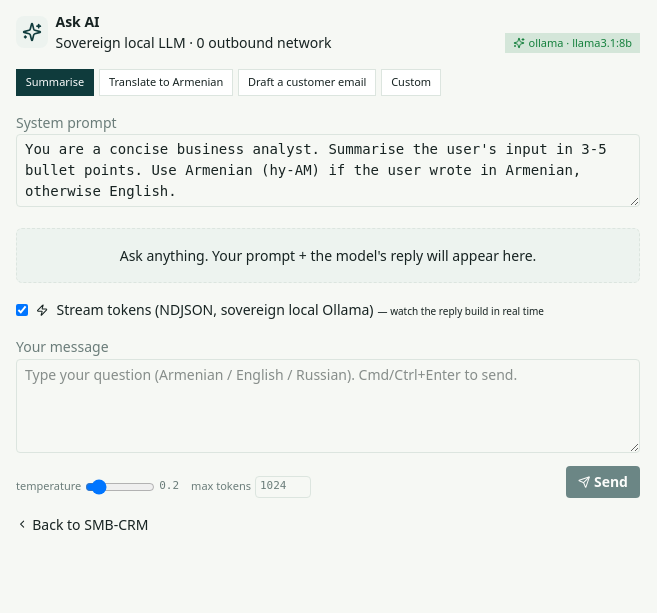
Test: Ask AI — streaming (slice 14) › accumulates token events into the in-progress AI history entry
This screenshot has width=657, height=613.
Replace the text in the text box with test id "smb-crm-ai-user-input" with "greet me" at (328, 406), box x1=16 y1=359 x2=640 y2=453
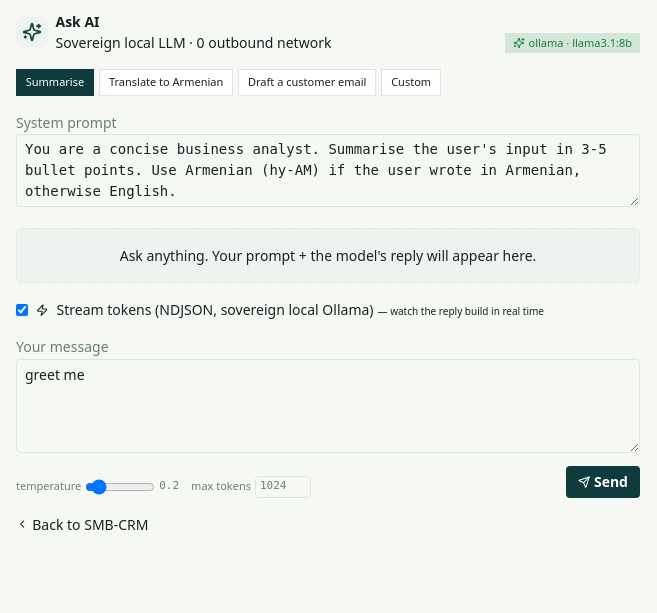
Click the button with test id "smb-crm-ai-send".
click(603, 482)  # box x1=566 y1=466 x2=640 y2=498
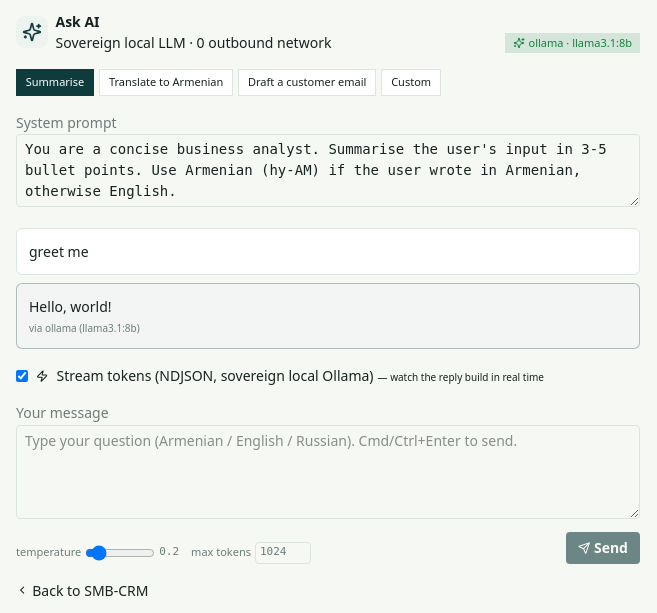
expect the text with test id "smb-crm-ai-history-ai" reads "Hello, world!": met, box x1=29 y1=297 x2=112 y2=316
